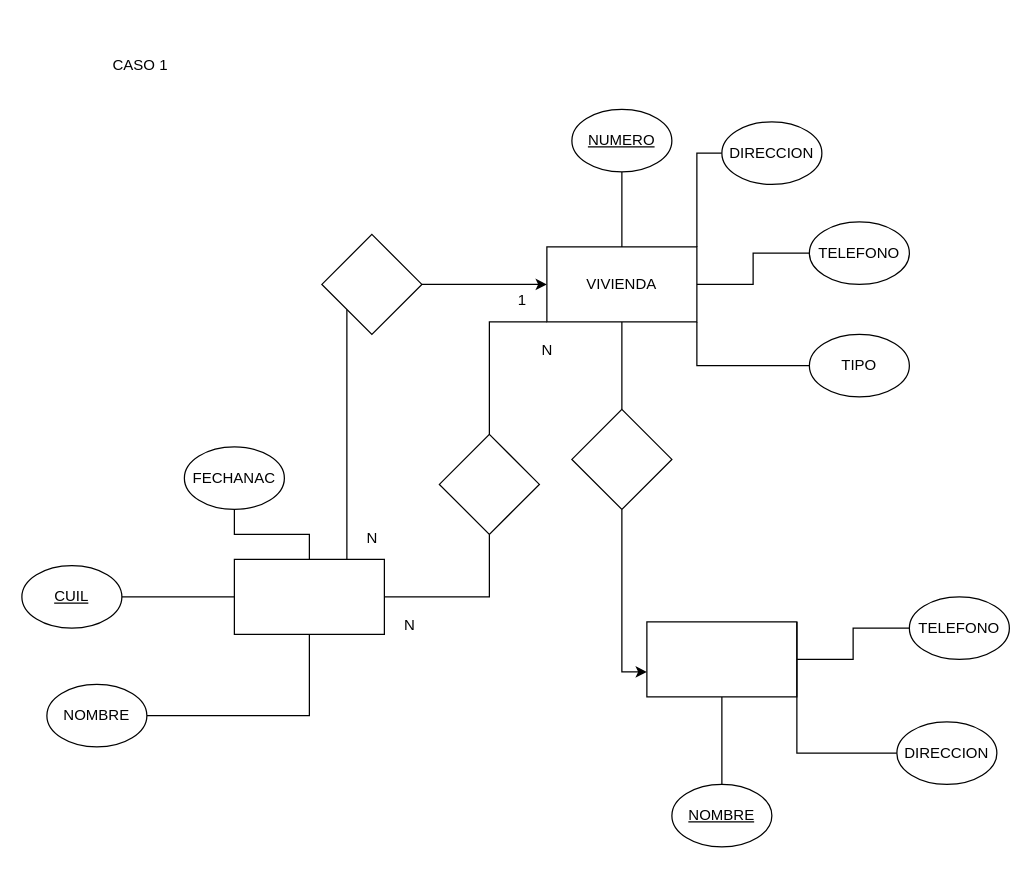
Some shapes in this 1031 by 869 pixel diagram are drawn without their labels. The shapes that lost their labels are listed below. From the top down, each one's centre as x and y in pixels, then its label:
point (371, 283): HABITA
point (621, 458): PERTENECE
point (488, 483): PROPIETARIO
point (308, 596): PERSONA
point (721, 659): MUNICIPALIDAD
